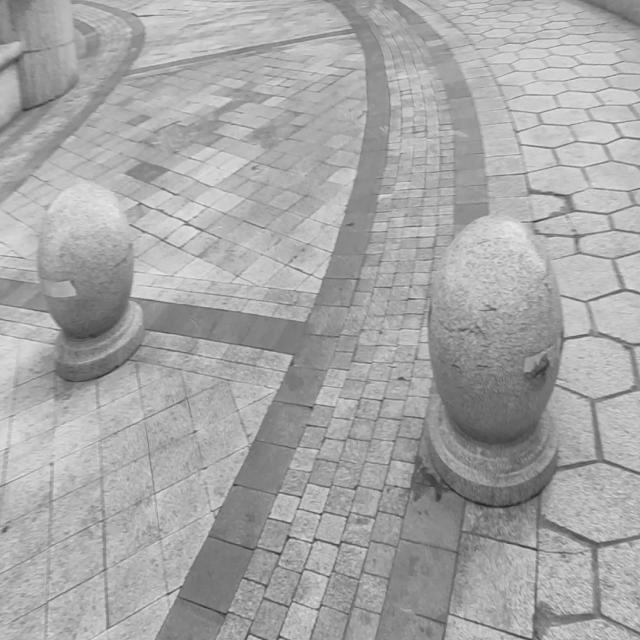spherical_roadblock: (426, 211, 564, 505), (38, 181, 144, 381)
